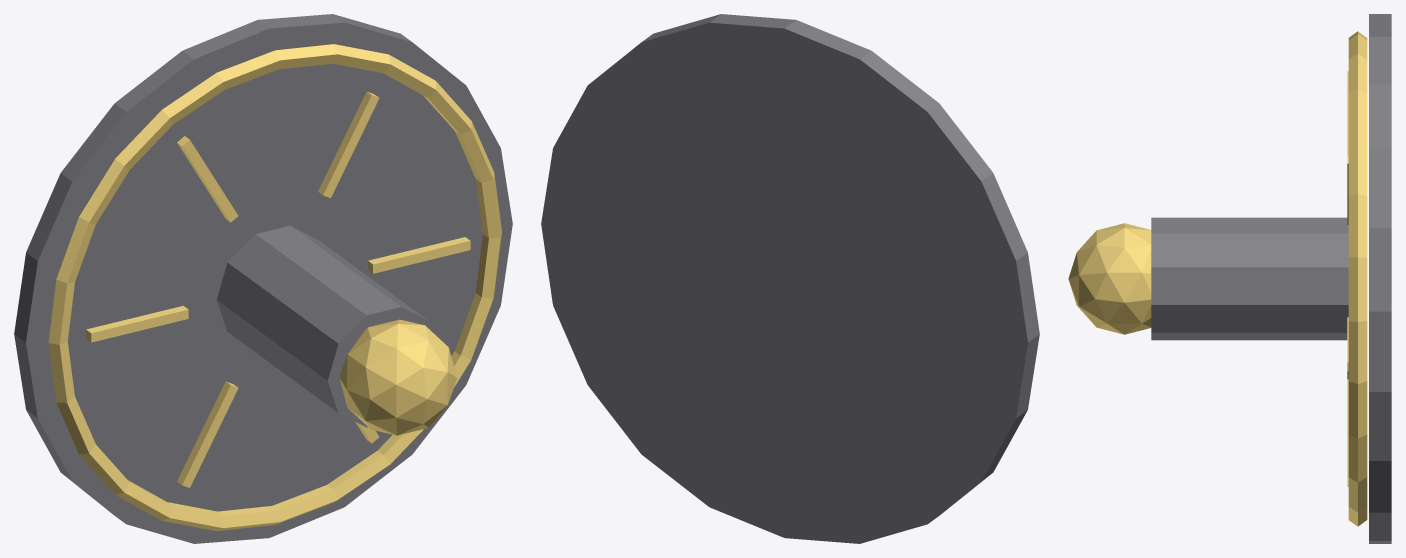
File: ivory_behemoth_crash_wall.glb
The picture shows the model from 3 angles, left to right: view 1: azimuth 30°, elevation 25°; view 2: azimuth 150°, elevation 25°; view 3: azimuth 270°, elevation 25°; orthographic projection. The views are drawn at different scales.
Visible parts, largest first — view 1: arena_plate, warning_ring, mechanic_core, activation_orb, floor_rune_4, floor_rune_1, floor_rune_3, floor_rune_0, floor_rune_2; view 2: arena_plate; view 3: mechanic_core, arena_plate, warning_ring, activation_orb.
Boxes of the visible parts, box(x1,y1,x2,y2) form: arena_plate: box(14, 14, 512, 543); warning_ring: box(48, 44, 501, 531); mechanic_core: box(216, 225, 433, 427); activation_orb: box(339, 319, 457, 435); floor_rune_4: box(177, 381, 238, 487); floor_rune_1: box(318, 91, 379, 197); floor_rune_3: box(86, 305, 188, 342); floor_rune_0: box(368, 237, 470, 273); floor_rune_2: box(177, 136, 238, 222); arena_plate: box(541, 14, 1039, 543); mechanic_core: box(1151, 217, 1348, 340); arena_plate: box(1369, 14, 1391, 543); warning_ring: box(1348, 31, 1367, 526); activation_orb: box(1068, 223, 1151, 334).
Size of the model in its own units: 1.9 by 1.9 by 1.15.
